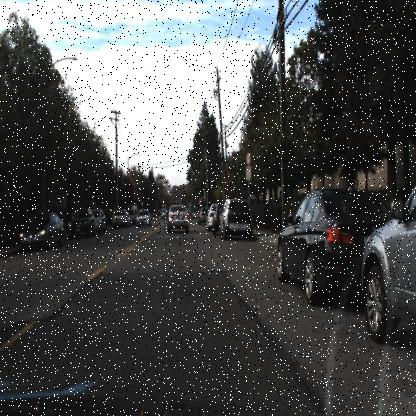car: (275, 183, 370, 306), (362, 182, 416, 348), (16, 208, 64, 253), (218, 196, 254, 241), (67, 203, 95, 241), (166, 204, 189, 233)
